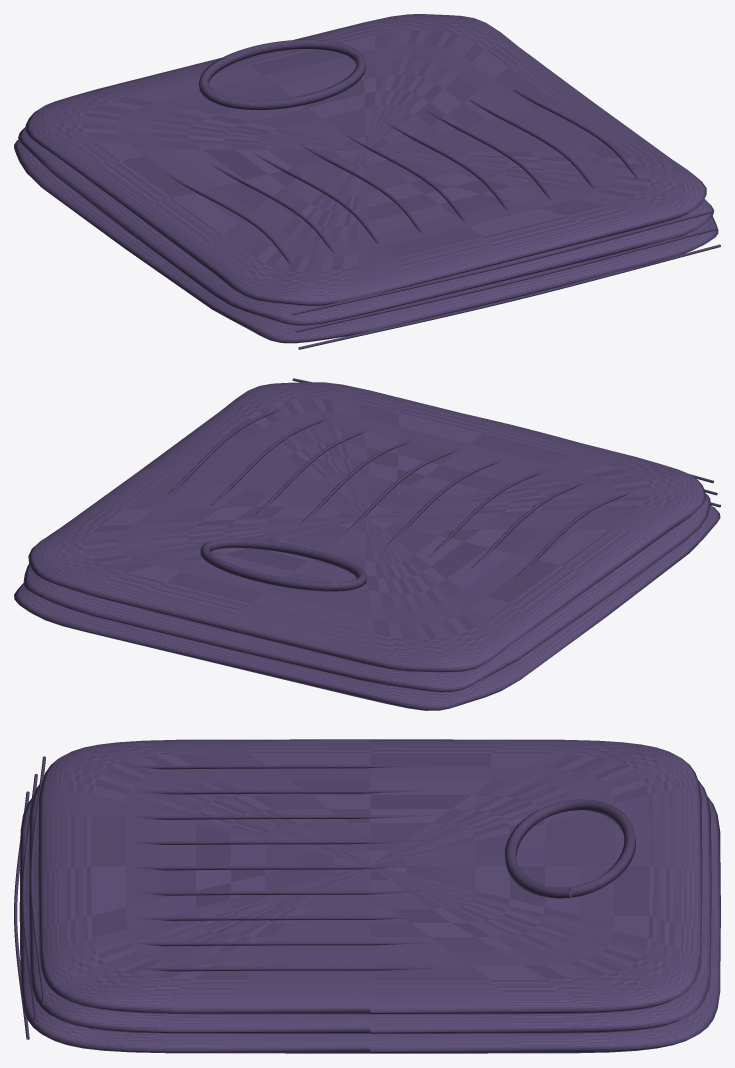
File: folded.glb
3 renders of one model, top to bottom at view 1: azimuth 30°, elevation 25°; view 2: azimuth 150°, elevation 25°; view 3: azimuth 270°, elevation 25°, orthographic. The views are drawn at different scales.
Visible parts, largest first — view 1: fabric_iris, dress fabric seam; view 2: fabric_iris, dress fabric seam; view 3: fabric_iris, dress fabric seam.
Boxes of the visible parts, x1,y1,x2,y2 form: fabric_iris: (14, 14, 718, 343); dress fabric seam: (166, 39, 720, 349); fabric_iris: (14, 382, 720, 710); dress fabric seam: (167, 378, 720, 591); fabric_iris: (19, 739, 720, 1053); dress fabric seam: (14, 756, 635, 1039).
Bounding box in the file's own units: 0.3224 × 0.0467 × 0.3428.
2 materials, 2 textured.
